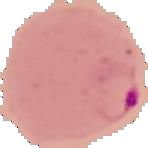parasitized: (90, 52, 142, 122)
